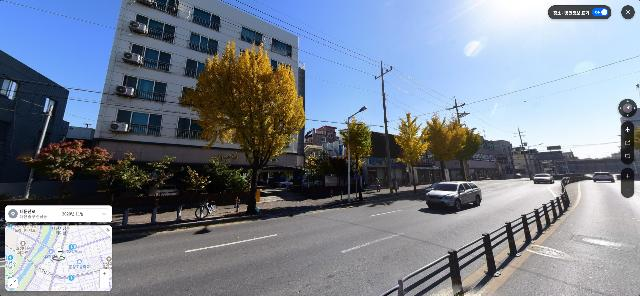ginkgo: (179, 39, 306, 215), (422, 109, 484, 181), (342, 113, 372, 200), (394, 110, 427, 189)
other: (16, 139, 115, 198), (97, 149, 143, 196), (204, 151, 250, 191), (141, 154, 174, 207), (180, 165, 207, 204)
